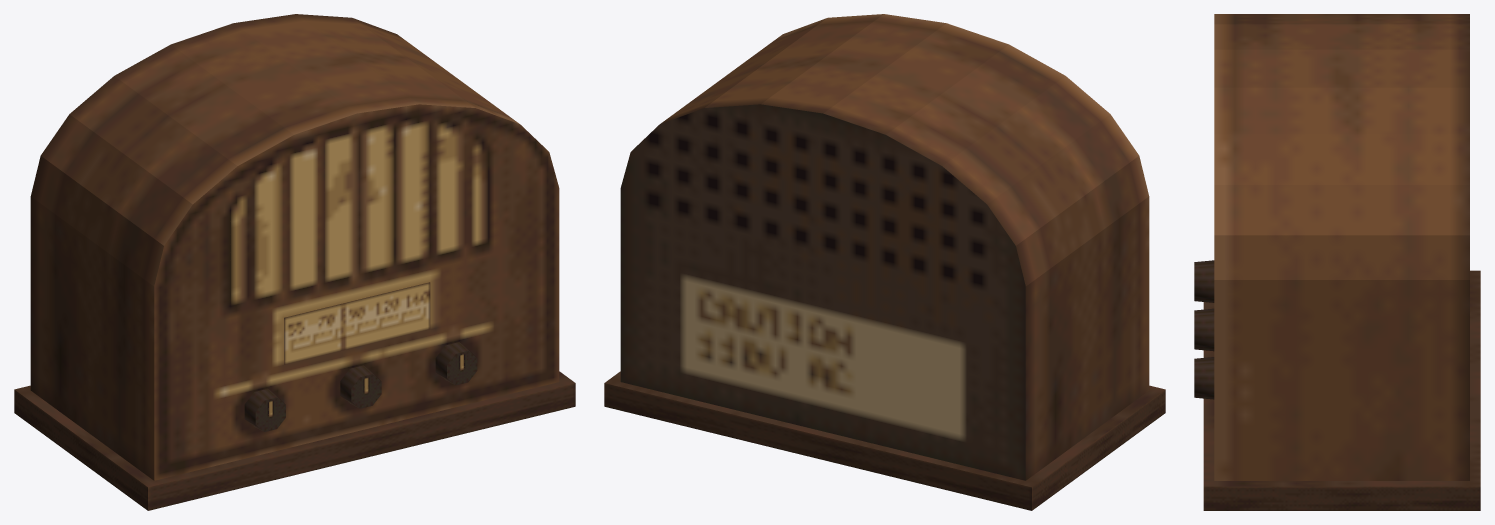
Rendered from radio_old.obj.
3 renders of one model, left to right at view 1: azimuth 30°, elevation 25°; view 2: azimuth 150°, elevation 25°; view 3: azimuth 270°, elevation 25°, orthographic. The views are drawn at different scales.
Parts seen in each view (by area): view 1: radio_old; view 2: radio_old; view 3: radio_old.
Boxes of the visible parts, x1=… form: radio_old: x1=14, y1=14, x2=575, y2=510; radio_old: x1=604, y1=14, x2=1165, y2=510; radio_old: x1=1194, y1=14, x2=1480, y2=510.
Bounding box in the file's own units: 0.38 × 0.29 × 0.213.
2 materials, 2 textured.
